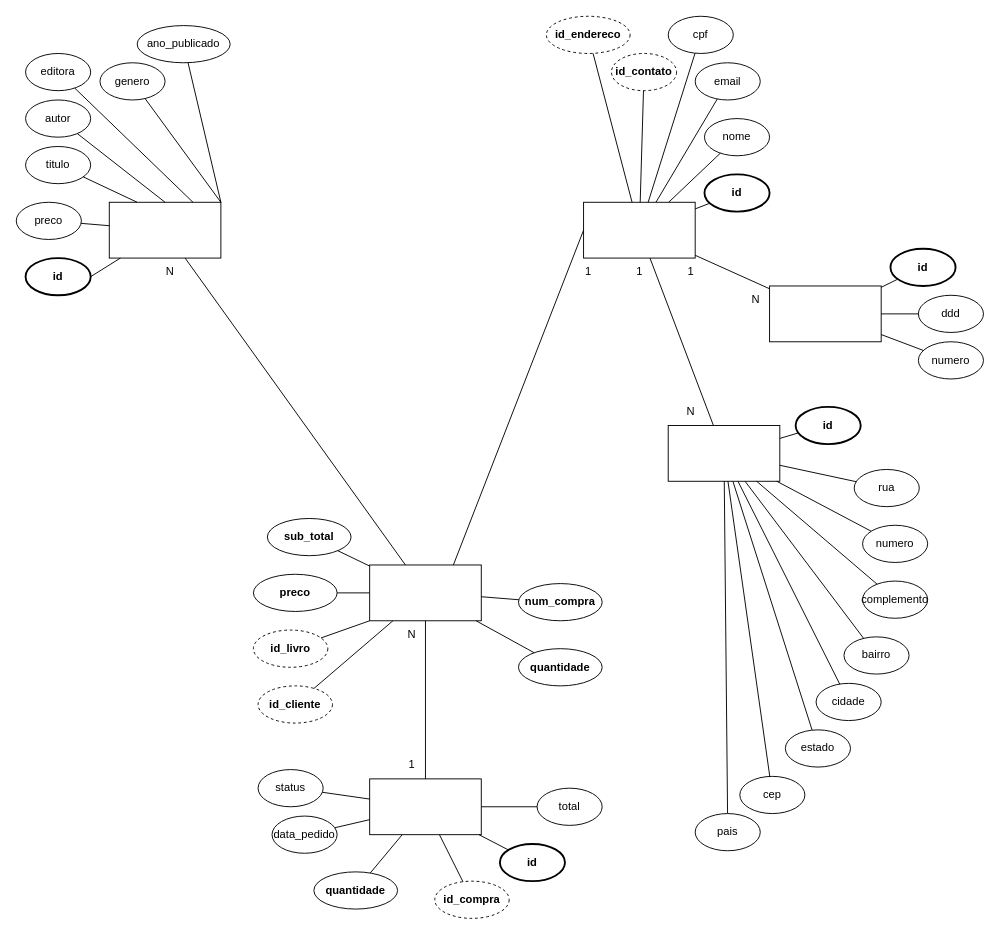
This 1000x935 diagram has some shape labels left out. Each missing label, with the centre of its shape:
"Cliente" belongs at point 639,229.
"Compra" belongs at point 425,592.
"Contato" belongs at point 825,313.
"Endereco" belongs at point 723,453.
"Livro" belongs at point 164,229.
"Pedido" belongs at point 425,806.
